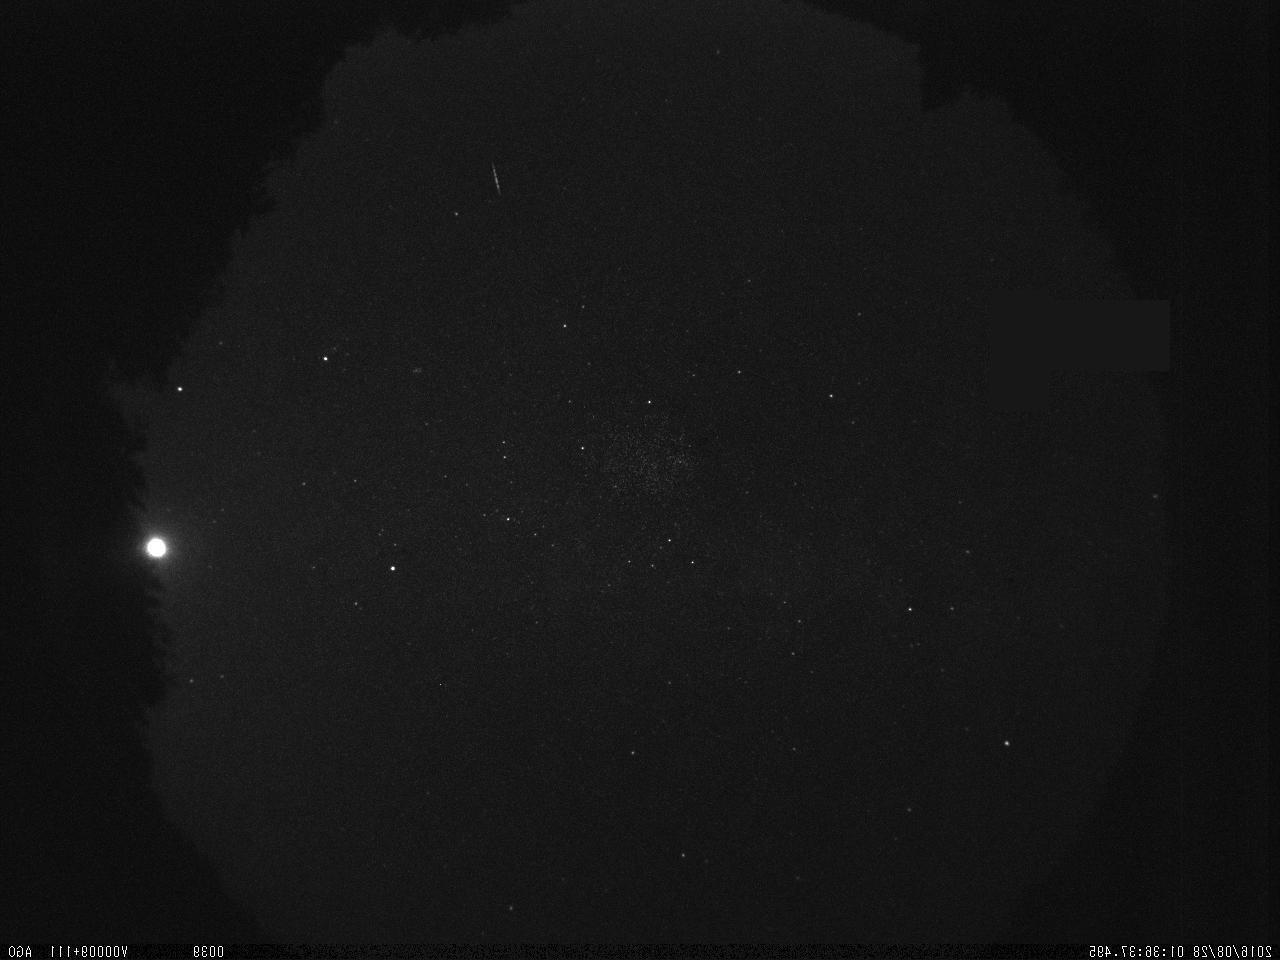meteor: (473, 155, 516, 208)
